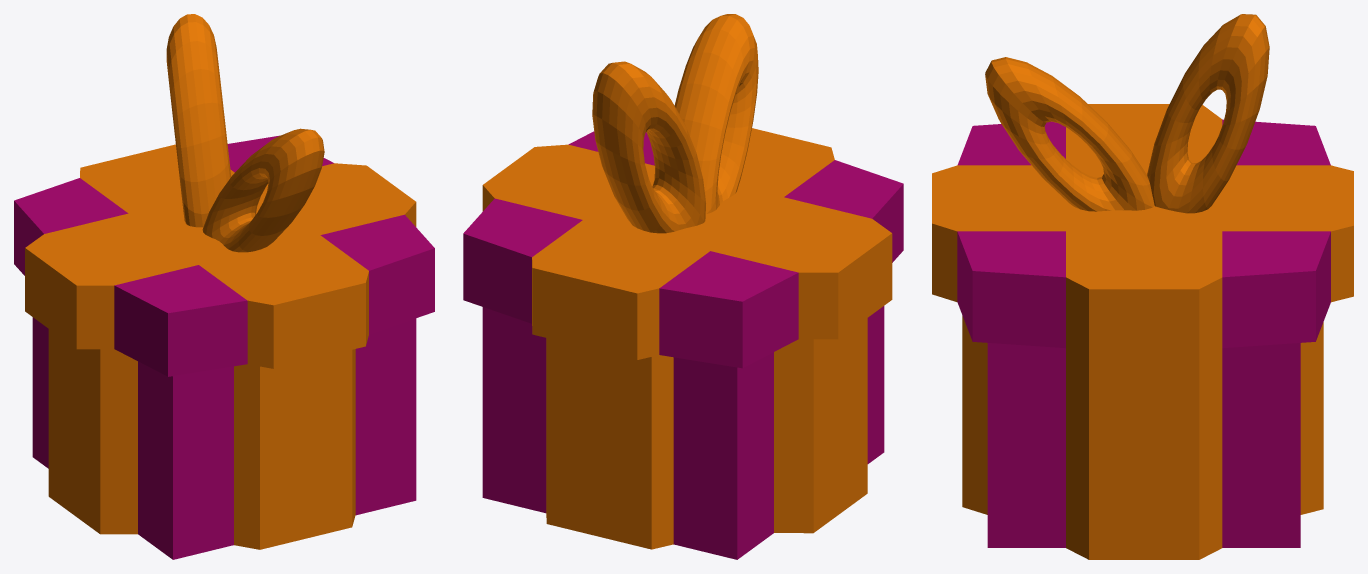
File: cadeau_1.fbx
3 views of the same model, side by side, from view 1: azimuth 30°, elevation 25°; view 2: azimuth 150°, elevation 25°; view 3: azimuth 270°, elevation 25° (orthographic). The views are drawn at different scales.
Visible parts, largest first — view 1: pCube5; view 2: pCube5; view 3: pCube5.
Part boxes in pixels (x1=…): pCube5: x1=14, y1=14, x2=434, y2=559; pCube5: x1=463, y1=14, x2=903, y2=559; pCube5: x1=932, y1=14, x2=1353, y2=559.
Size of the model in its own units: 4.94 by 5.89 by 4.76.
